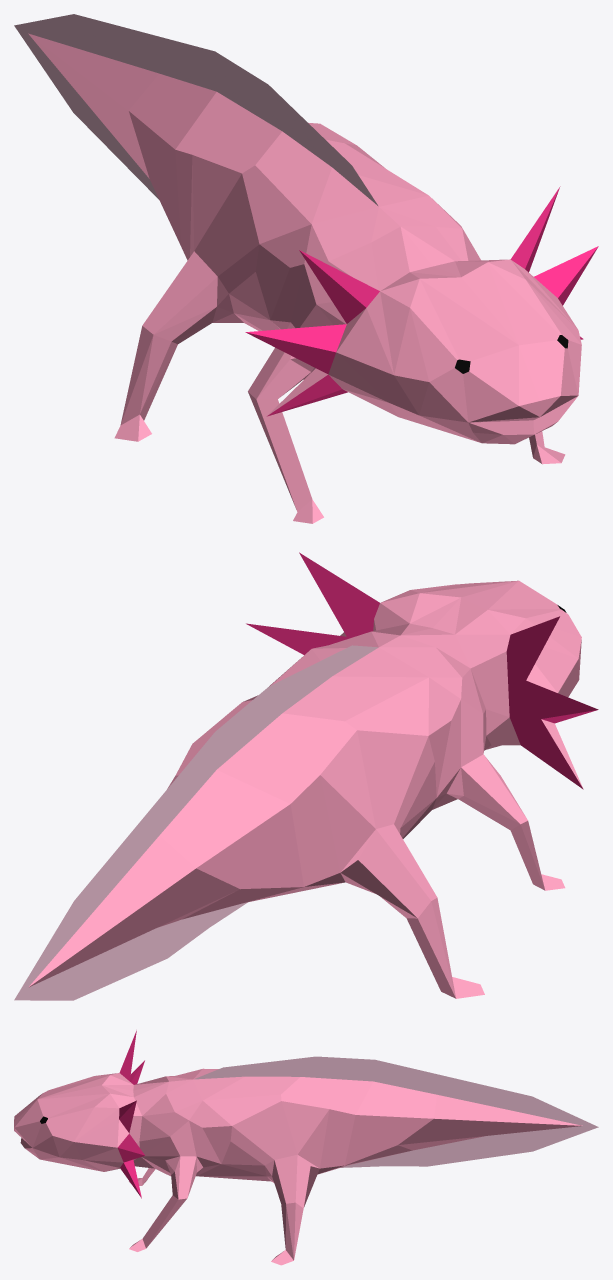
File: Axolotl.fbx
The picture shows the model from 3 angles, top to bottom: view 1: azimuth 30°, elevation 25°; view 2: azimuth 150°, elevation 25°; view 3: azimuth 270°, elevation 25°; orthographic projection. The views are drawn at different scales.
Visible parts, largest first — view 1: Axolotl; view 2: Axolotl; view 3: Axolotl.
Part boxes in pixels (left/top/right/bottom): Axolotl: left=14, top=14, right=598, bottom=523; Axolotl: left=14, top=552, right=598, bottom=1000; Axolotl: left=14, top=1030, right=598, bottom=1265.
Bounding box in the file's own units: 26.94 × 19.83 × 66.24.
